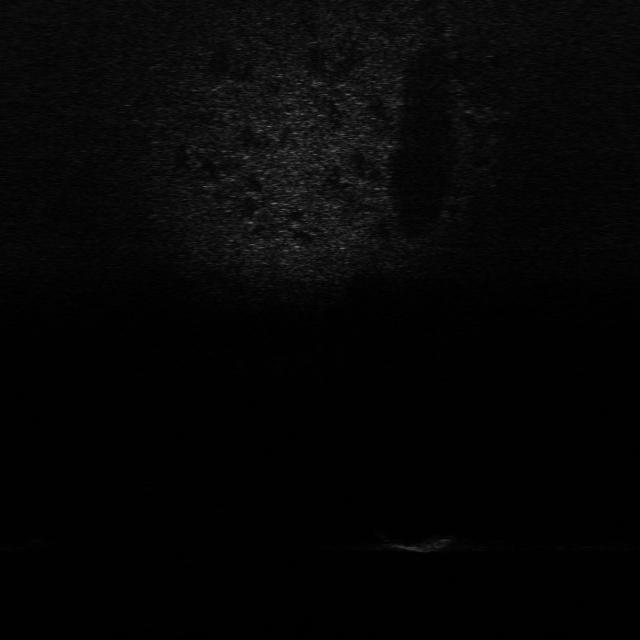metal bucket: (364, 516, 464, 554)
